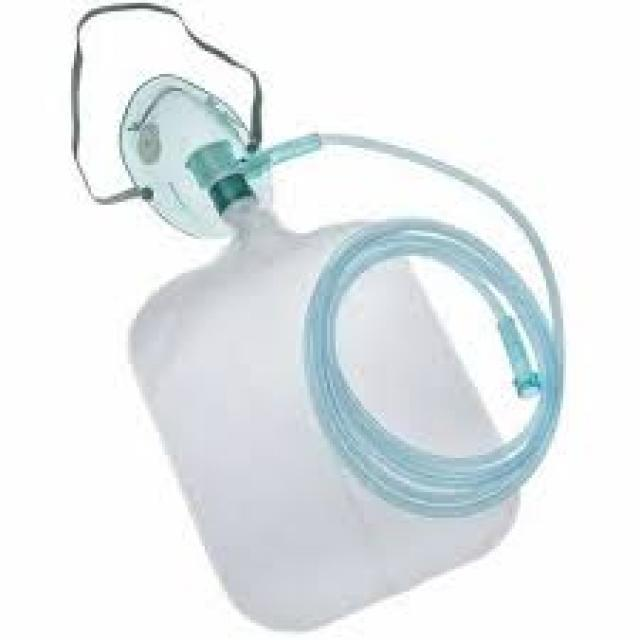oxygen_mask: (106, 87, 497, 622)
